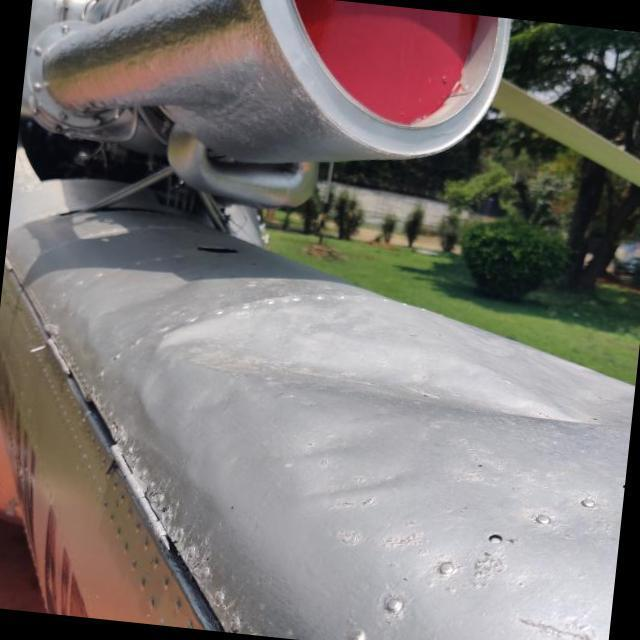dent: (144, 278, 612, 424), (260, 395, 432, 541)
